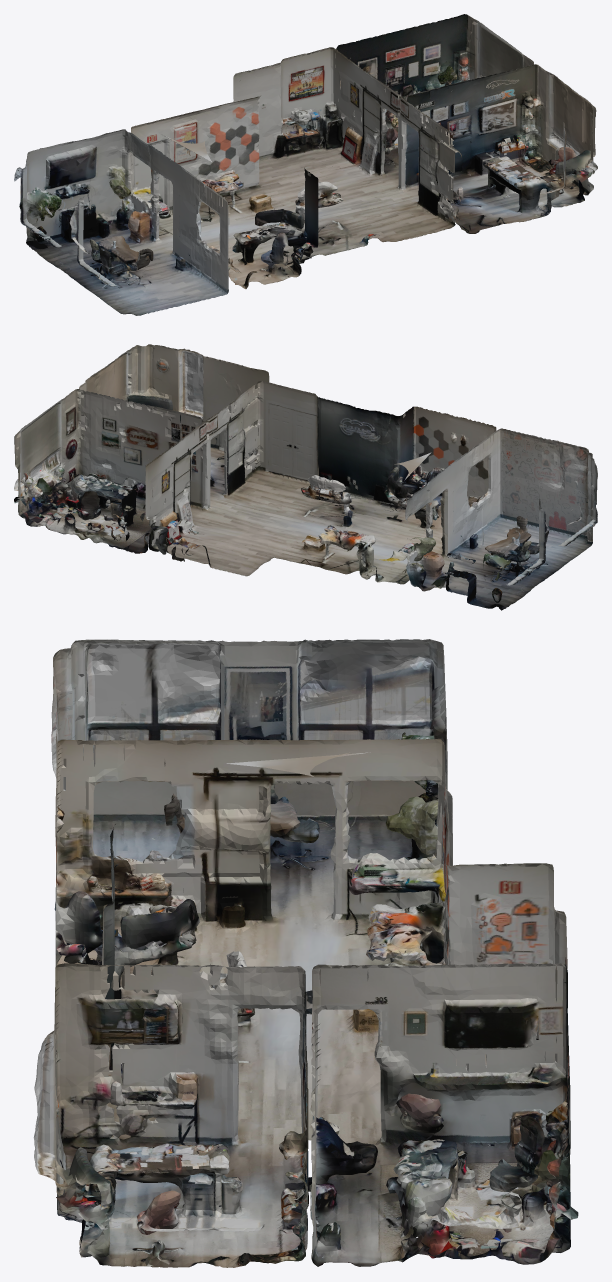
Rendered from CloudlinxOfficev3_OPT.glb.
3 renders of one model, top to bottom at view 1: azimuth 30°, elevation 25°; view 2: azimuth 150°, elevation 25°; view 3: azimuth 270°, elevation 25°, orthographic. The views are drawn at different scales.
Visible parts, largest first — view 1: Mesh_0; view 2: Mesh_0; view 3: Mesh_0.
Part boxes in pixels (x1=…): Mesh_0: x1=14, y1=14, x2=597, y2=315; Mesh_0: x1=14, y1=344, x2=597, y2=610; Mesh_0: x1=33, y1=639, x2=578, y2=1267.
Size of the model in its own units: 15.1 by 2.78 by 7.36.
Materials: 11 (11 with a texture image).
